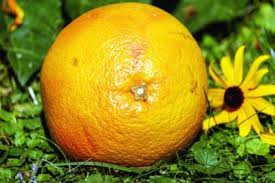orange: (36, 1, 219, 168)
